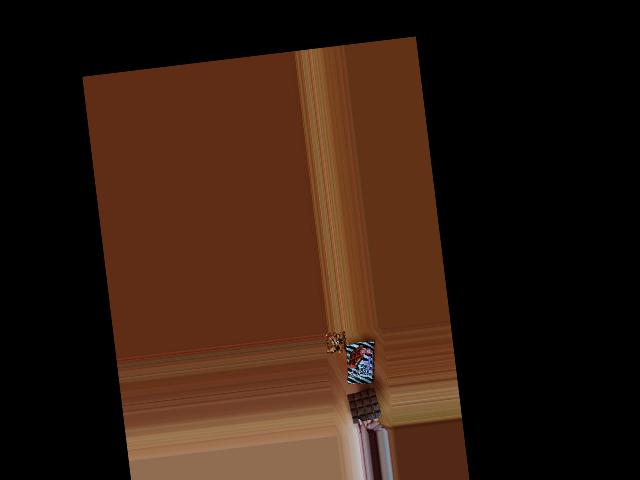chocolate: (344, 338, 378, 387)
